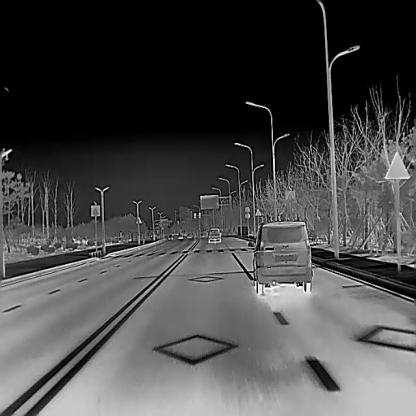car: (246, 220, 313, 294), (206, 225, 221, 243), (167, 233, 173, 240), (178, 234, 184, 239), (186, 234, 192, 238)
